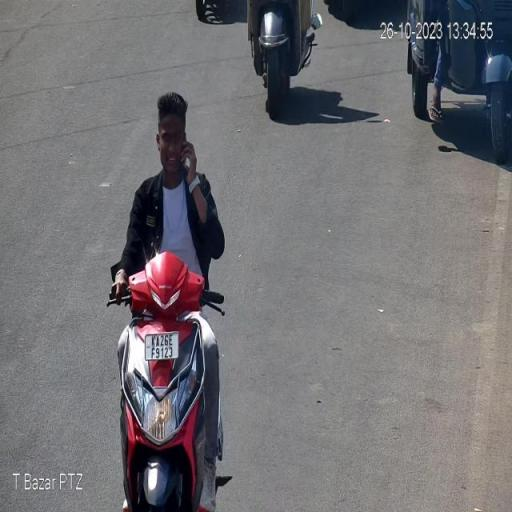using mobile: (178, 128, 196, 178)
